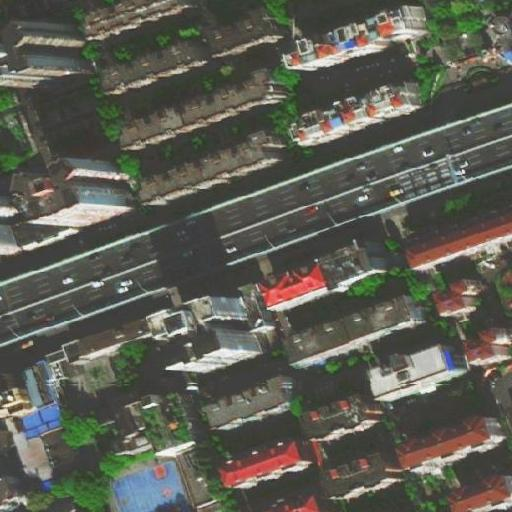building: (128, 69, 282, 146), (145, 127, 287, 202), (288, 295, 423, 370), (267, 237, 391, 313), (13, 156, 142, 229), (288, 3, 428, 69), (298, 82, 423, 152), (148, 298, 263, 374), (407, 206, 511, 269), (400, 415, 505, 472), (110, 32, 209, 90), (374, 342, 465, 400), (63, 315, 153, 368), (207, 380, 295, 433), (222, 439, 311, 490), (113, 460, 198, 512), (326, 448, 406, 499), (85, 2, 191, 37), (300, 395, 376, 442), (210, 14, 282, 61), (143, 394, 197, 453), (183, 441, 225, 502), (449, 473, 512, 512), (22, 359, 59, 409), (478, 7, 512, 58), (23, 397, 64, 439), (16, 436, 55, 477), (440, 281, 483, 318), (471, 329, 512, 364), (0, 195, 22, 255), (16, 478, 62, 506), (264, 492, 330, 511), (48, 445, 82, 473), (94, 409, 119, 430), (0, 417, 15, 450)
